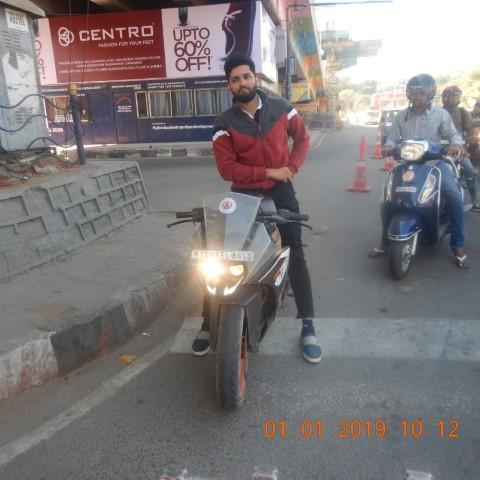plate: (191, 249, 255, 261)
